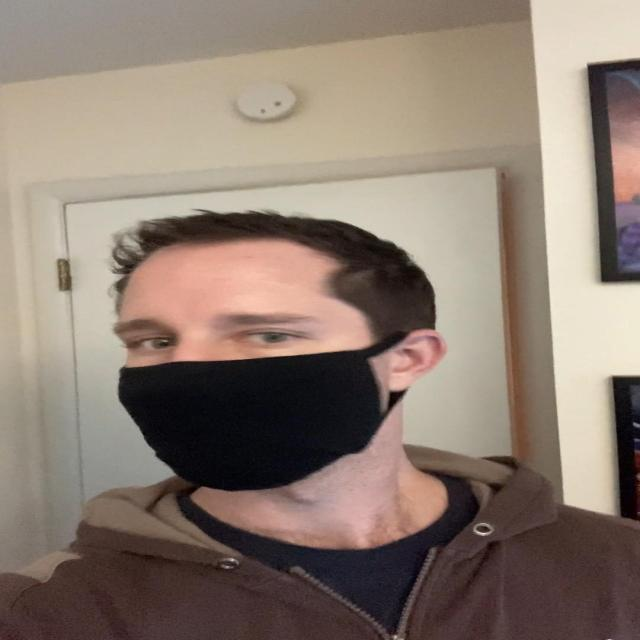no-helmet: (98, 221, 448, 510)
